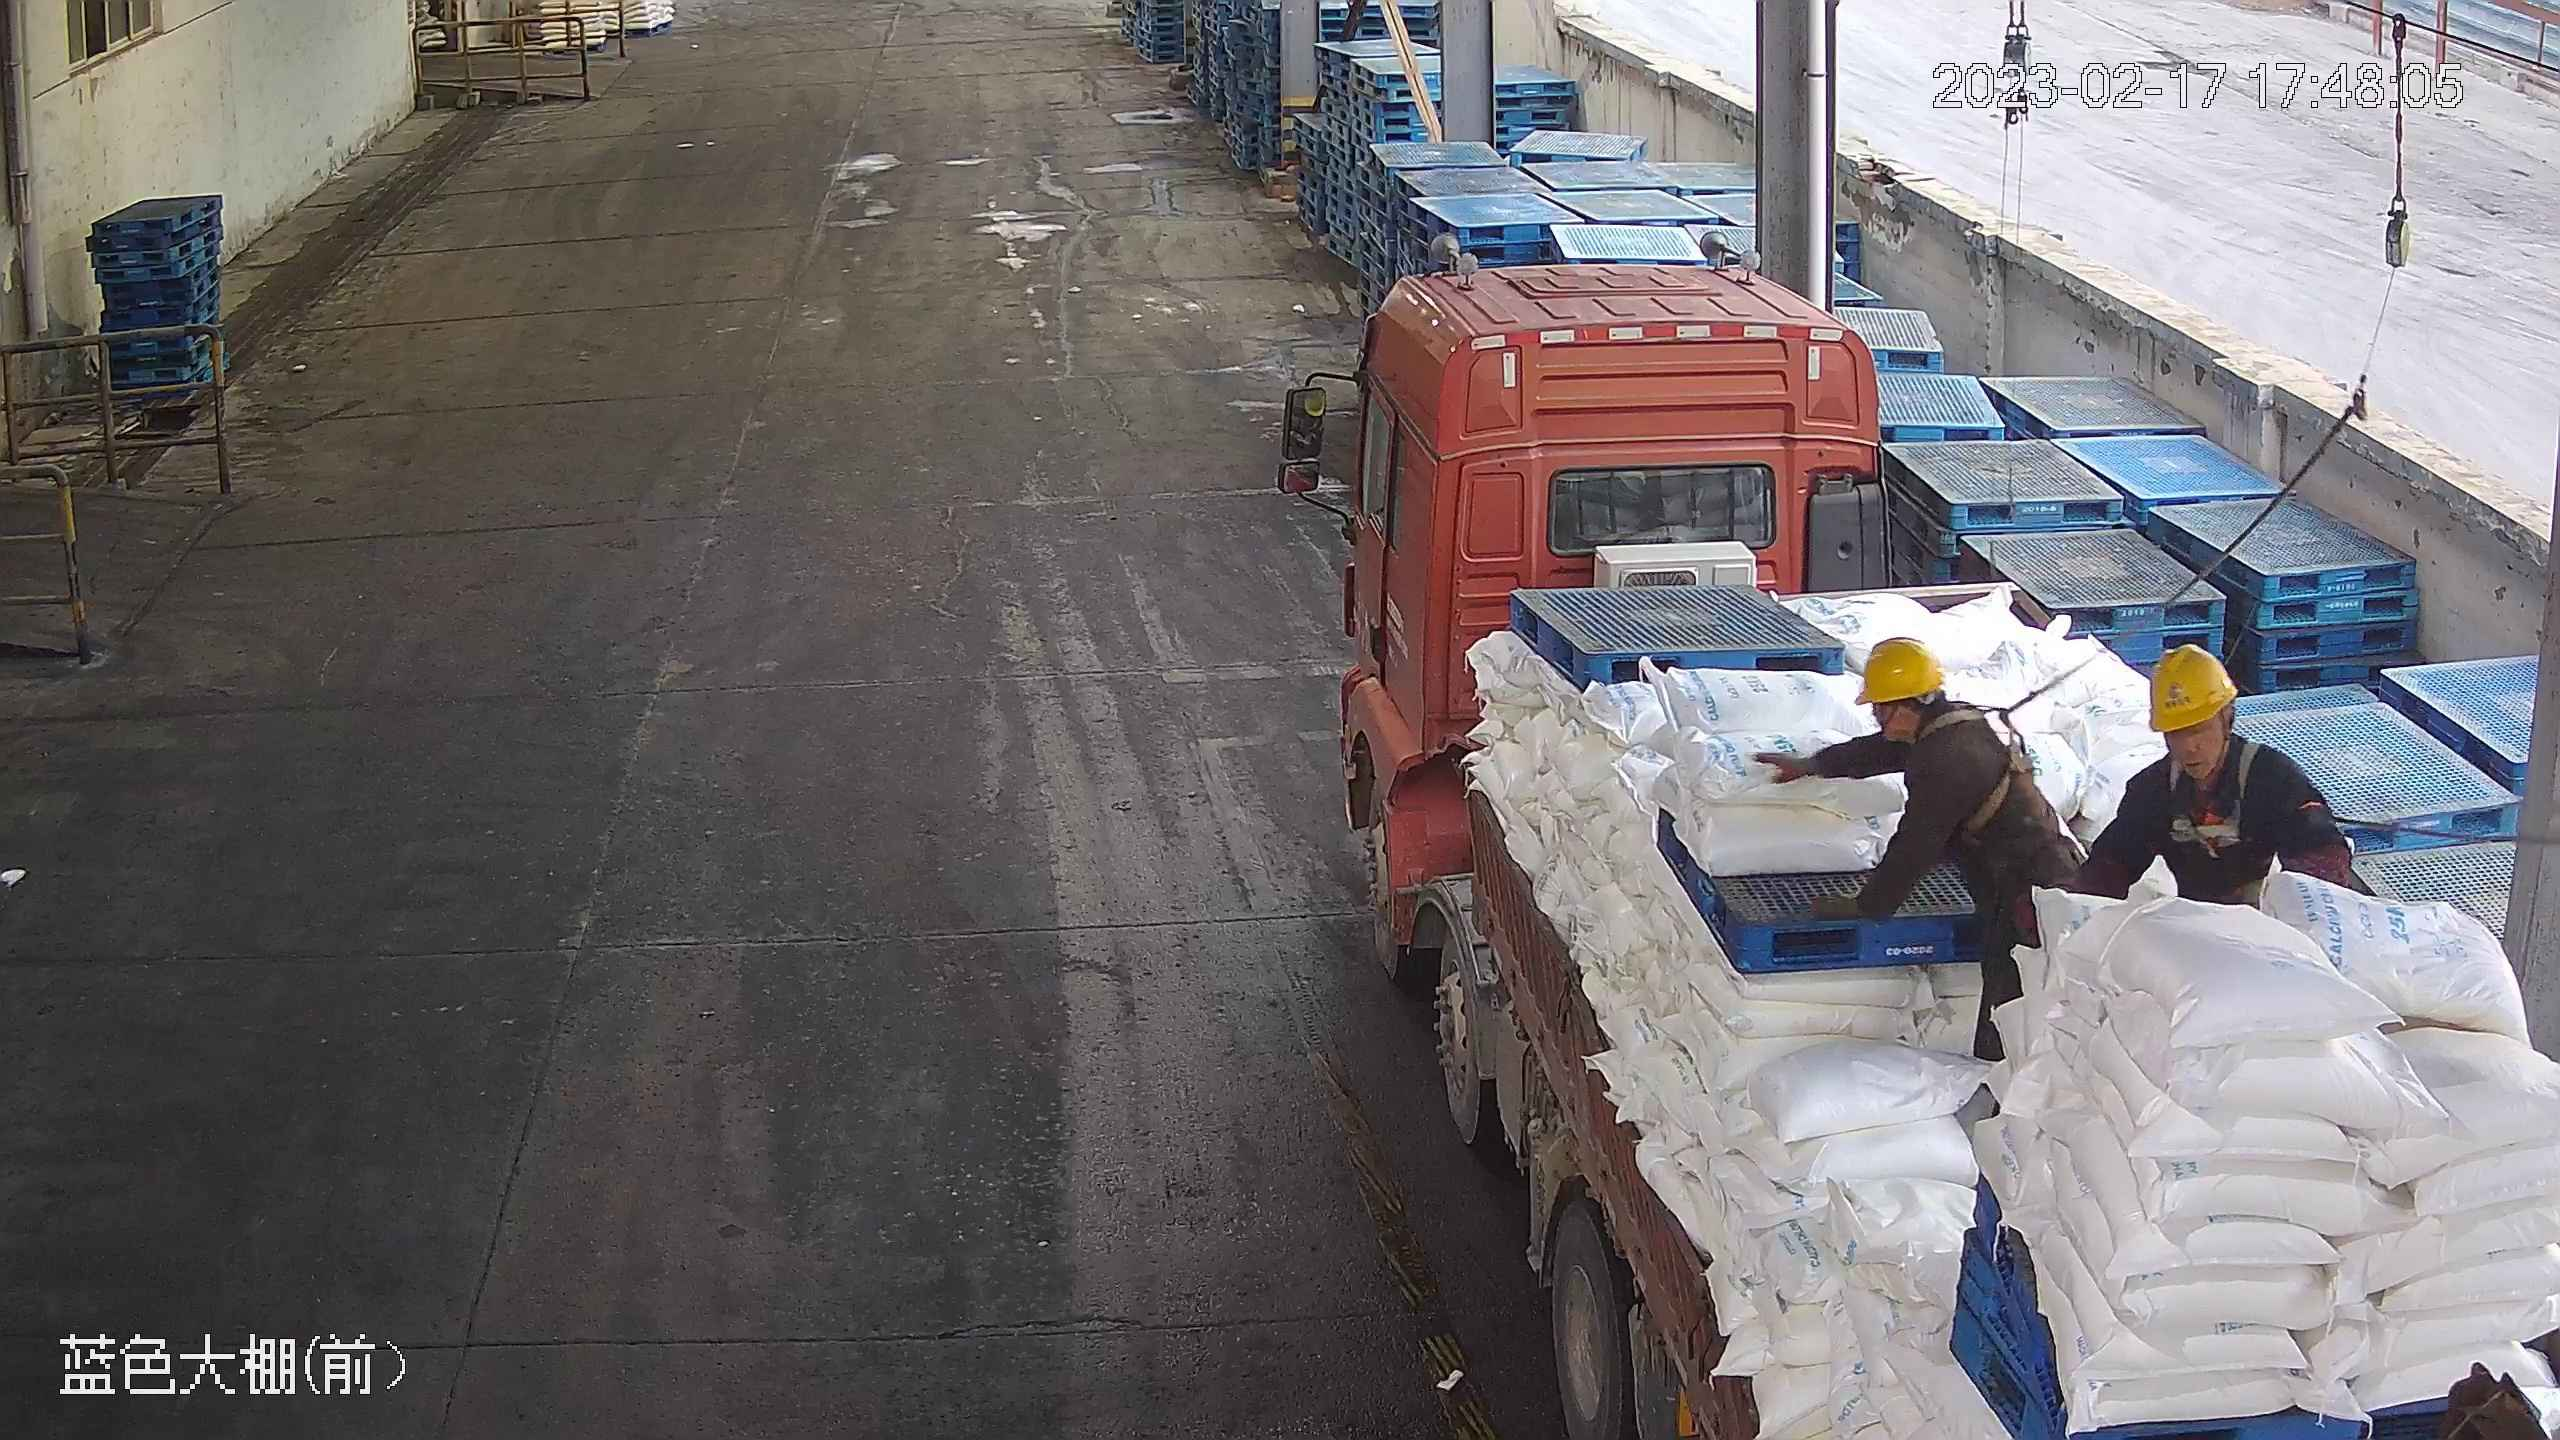belt: (1928, 700, 2040, 838), (2163, 741, 2260, 856)
head: (2117, 639, 2313, 828), (1849, 637, 2008, 788)
helmet: (2144, 639, 2240, 734), (1854, 636, 1947, 705)
people: (1756, 637, 2082, 1073)
truck: (1274, 255, 2556, 1440)
